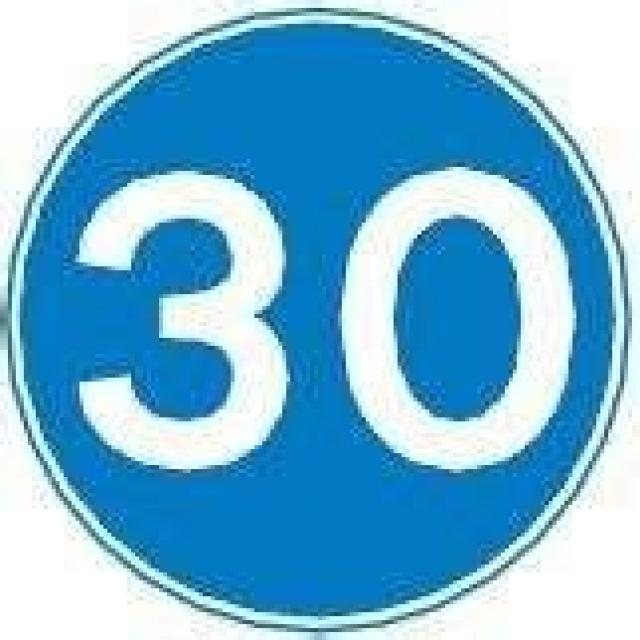compulsory_keep_right: (0, 0, 636, 636)
